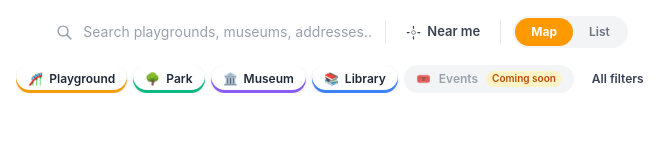
SearchField combobox keyboard navigation (#482) › Escape still closes the dropdown without selecting
This screenshot has width=660, height=166.
Type "first" into the dropdown with placeholder "Search playgrounds, museums, addresses…" at coordinates (228, 32), box [83,22,373,42]
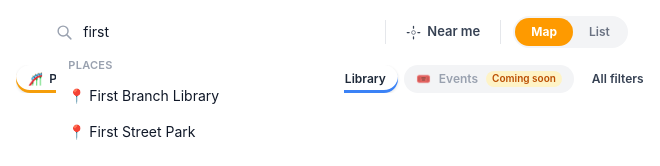
Expected: the list is shown, [56,50,344,150]
Press Escape in the dropdown with placeholder "Search playgrounds, museums, addresses…", box [83,22,373,42]
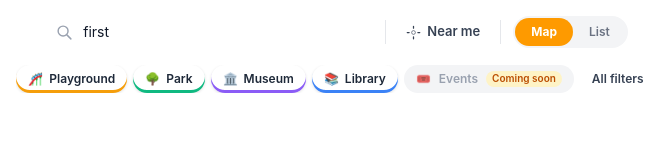
Expected: the list is gone
